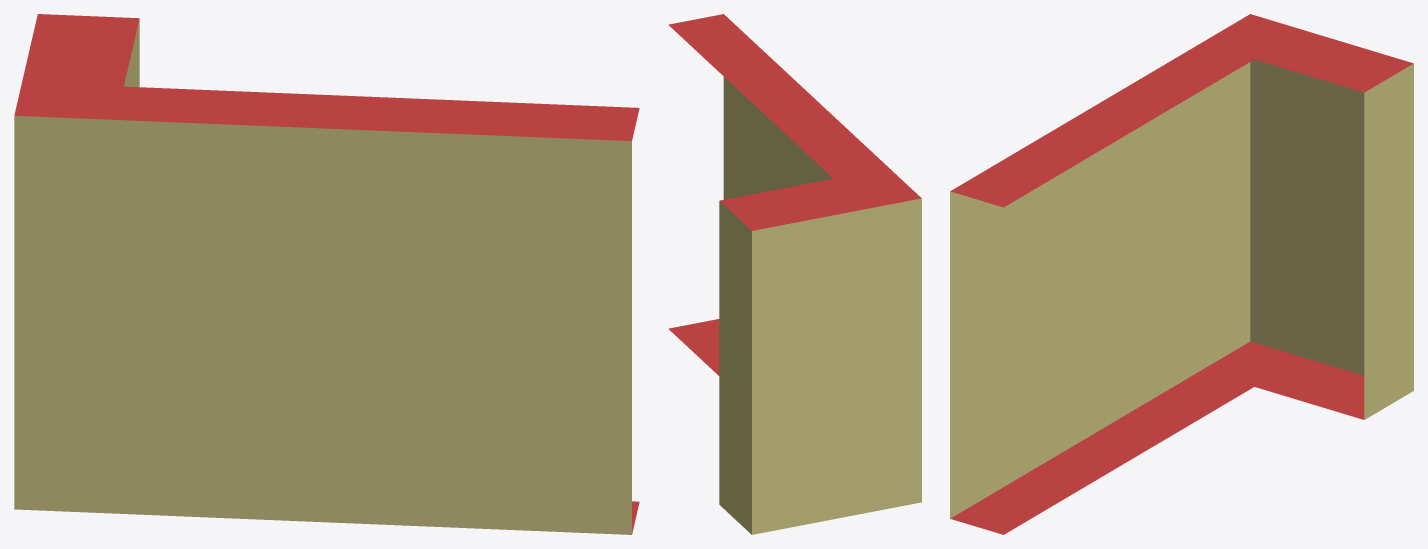
3 views of the same model, side by side, from view 1: azimuth 30°, elevation 25°; view 2: azimuth 150°, elevation 25°; view 3: azimuth 270°, elevation 25° (orthographic). The views are drawn at different scales.
Visible parts, largest first — view 1: group_4, group_3; view 2: group_4, group_3, group_5; view 3: group_4, group_3, group_5.
Part boxes in pixels (<box>): group_4: <box>14,19,631,534</box>; group_3: <box>14,14,639,141</box>; group_4: <box>719,77,921,534</box>; group_3: <box>668,14,921,230</box>; group_5: <box>668,319,719,375</box>; group_4: <box>950,59,1413,518</box>; group_3: <box>950,14,1413,207</box>; group_5: <box>950,341,1364,534</box>.
Bounding box in the file's own units: 10.06 × 10.19 × 7.94.
